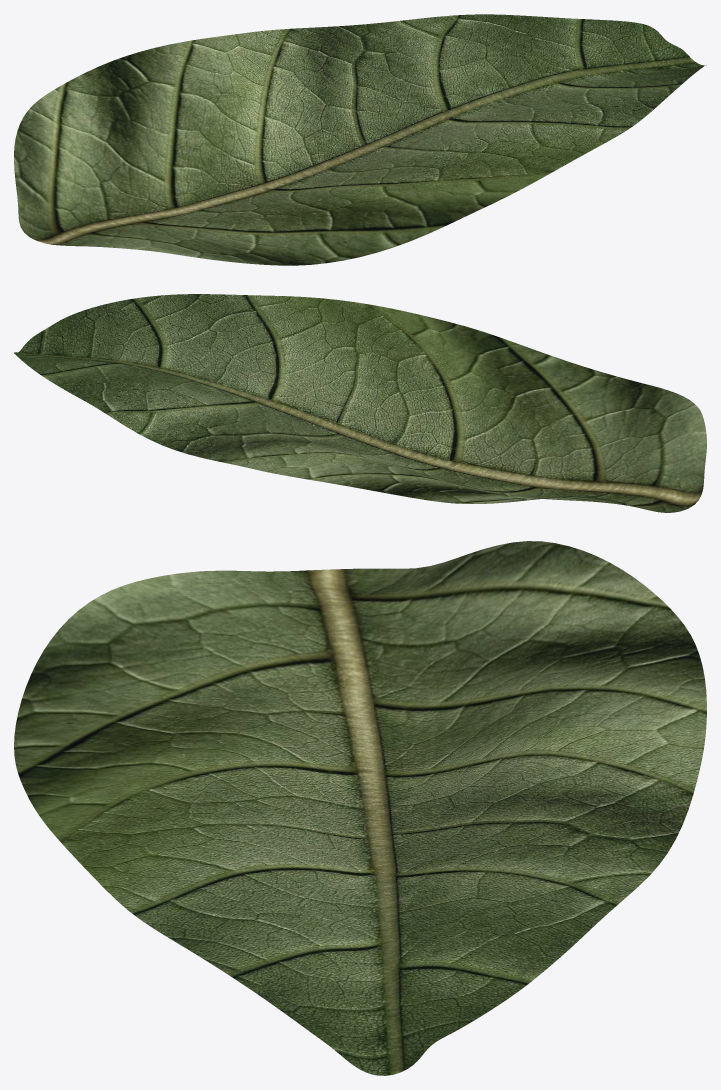
The model's file is leaf_c7.glb.
3 renders of one model, top to bottom at view 1: azimuth 30°, elevation 25°; view 2: azimuth 150°, elevation 25°; view 3: azimuth 270°, elevation 25°, orthographic. The views are drawn at different scales.
Parts seen in each view (by area): view 1: Circle.019; view 2: Circle.019; view 3: Circle.019.
Part boxes in pixels (box(x1,y1,x2,y2)): Circle.019: box(14, 14, 706, 265); Circle.019: box(14, 294, 706, 512); Circle.019: box(14, 541, 706, 1075).
Size of the model in its own units: 0.9999 by 0.086 by 0.5781.
1 material, 1 textured.
